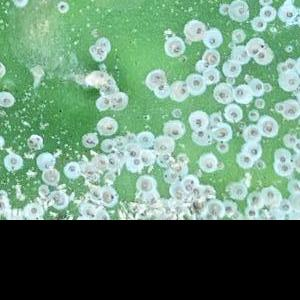Femea: (125, 149, 147, 166), (230, 1, 247, 19), (171, 83, 188, 99), (186, 75, 202, 92), (143, 72, 161, 87), (224, 106, 240, 122), (188, 21, 205, 36), (281, 73, 296, 90), (281, 7, 295, 25), (87, 46, 105, 60), (243, 129, 261, 142), (189, 113, 204, 128), (167, 39, 181, 55), (199, 50, 215, 64), (260, 120, 276, 134), (191, 129, 208, 142), (215, 88, 229, 103), (246, 143, 260, 157), (234, 87, 249, 100), (247, 80, 262, 93), (237, 153, 249, 168), (261, 8, 274, 21), (96, 95, 109, 108), (245, 41, 258, 54), (253, 50, 266, 63), (154, 83, 168, 95), (201, 31, 215, 43), (203, 70, 215, 83), (1, 91, 11, 106), (167, 123, 177, 138), (217, 3, 228, 15), (57, 2, 69, 12), (227, 63, 238, 73), (254, 19, 264, 29)
